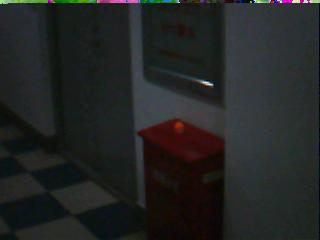oball: (173, 121, 185, 130)
